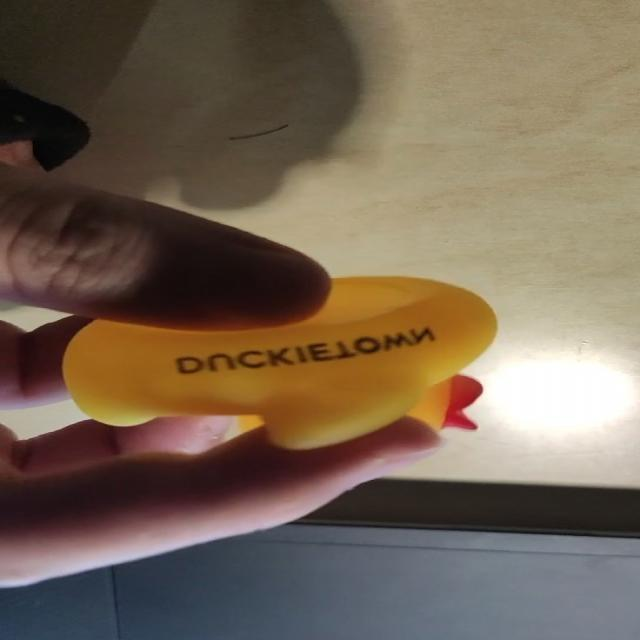rubber-duck: (62, 275, 495, 447)
